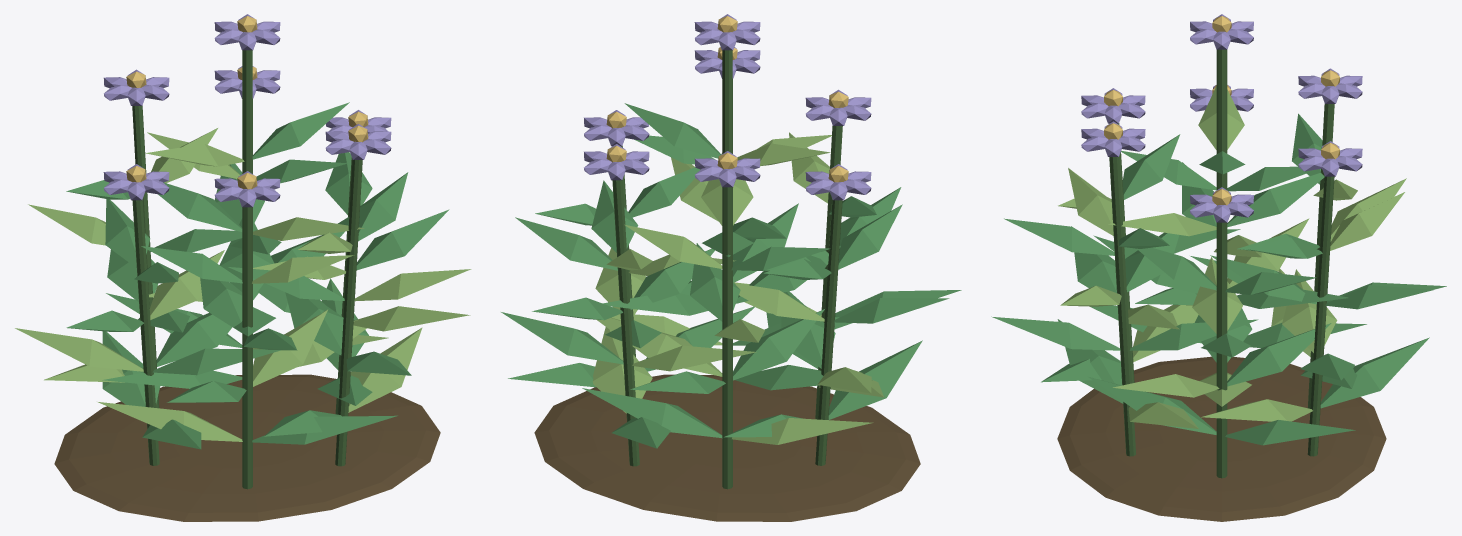
The model's file is Askir_HealingHerbs.glb.
3 views of the same model, side by side, from view 1: azimuth 30°, elevation 25°; view 2: azimuth 150°, elevation 25°; view 3: azimuth 270°, elevation 25° (orthographic). The views are drawn at different scales.
Visible parts, largest first — view 1: SM_AskirHealingHerbs; view 2: SM_AskirHealingHerbs; view 3: SM_AskirHealingHerbs.
Boxes of the visible parts, x1,y1,x2,y2 form: SM_AskirHealingHerbs: (15, 14, 471, 521); SM_AskirHealingHerbs: (501, 14, 961, 521); SM_AskirHealingHerbs: (991, 14, 1446, 521).
Size of the model in its own units: 0.5761 by 0.593 by 0.5685.
